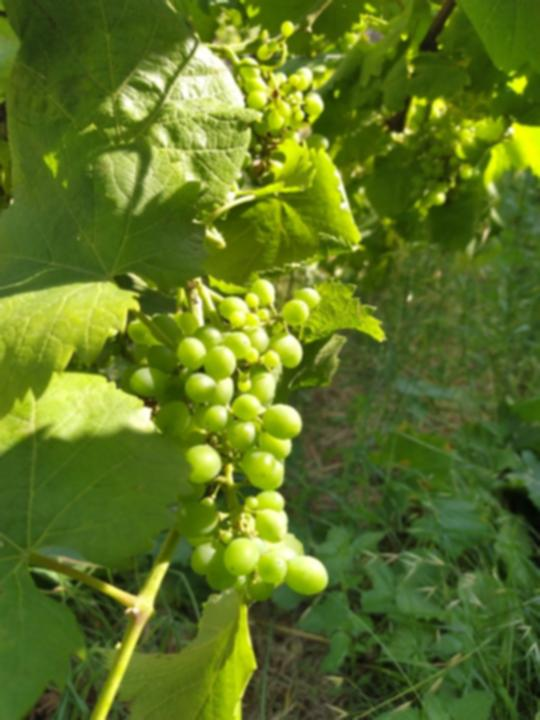grape: (125, 273, 334, 599)
